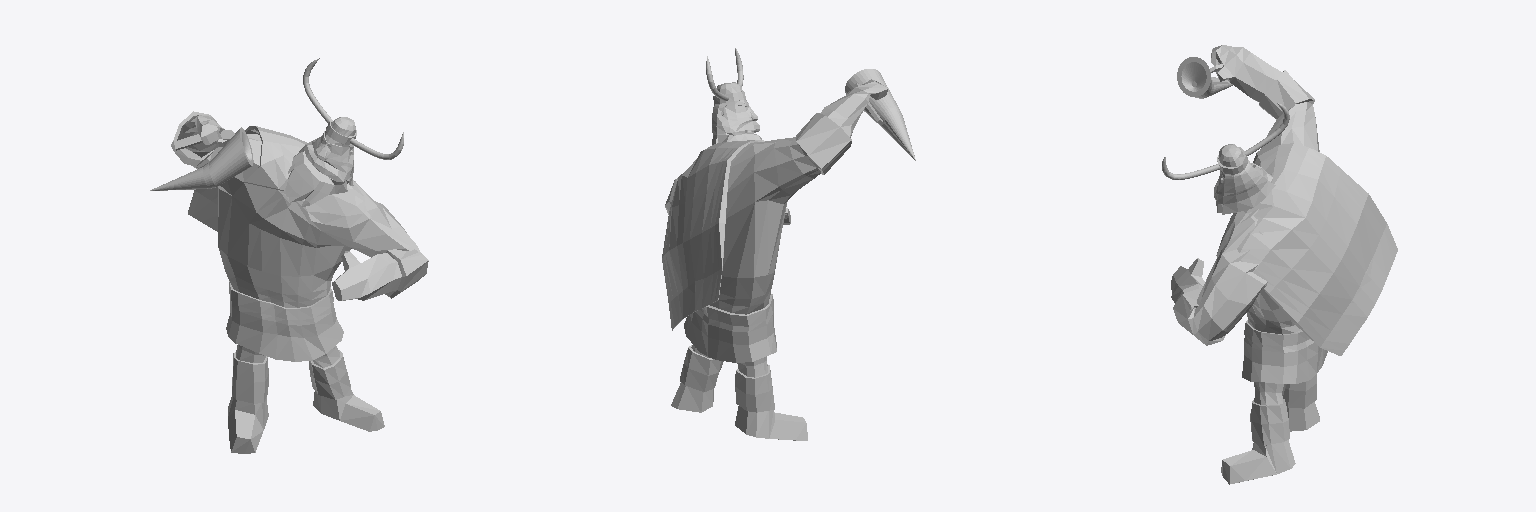
The model's file is vikingoCelebracion_000513.obj.
The picture shows the model from 3 angles: view 1: azimuth 30°, elevation 25°; view 2: azimuth 150°, elevation 25°; view 3: azimuth 270°, elevation 25°; orthographic projection.
Parts seen in each view (by area): view 1: Vilkingo_ikingoH, jarra_jarraH; view 2: Vilkingo_ikingoH, jarra_jarraH; view 3: Vilkingo_ikingoH, jarra_jarraH.
Part boxes in pixels (x1,y1,x2,y2): Vilkingo_ikingoH: (171,58,428,453); jarra_jarraH: (150,127,253,190); Vilkingo_ikingoH: (662,48,888,440); jarra_jarraH: (845,69,915,160); Vilkingo_ikingoH: (1162,45,1397,484); jarra_jarraH: (1177,57,1232,98).
Size of the model in its own units: 5.25 by 7.19 by 4.2.